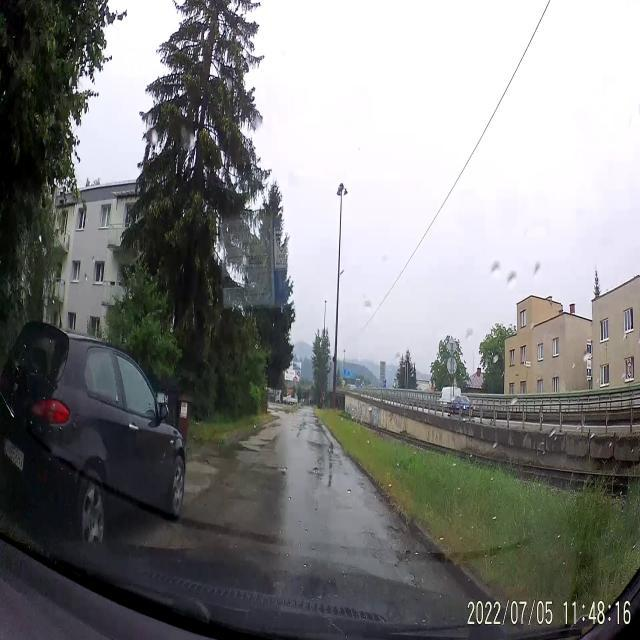Pothole: (378, 507, 418, 585), (258, 459, 290, 481), (312, 467, 320, 472)
